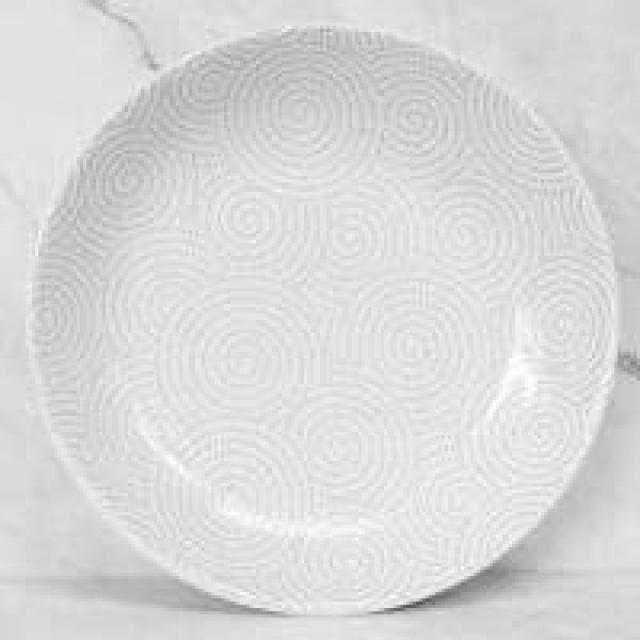dish: (31, 12, 636, 622)
